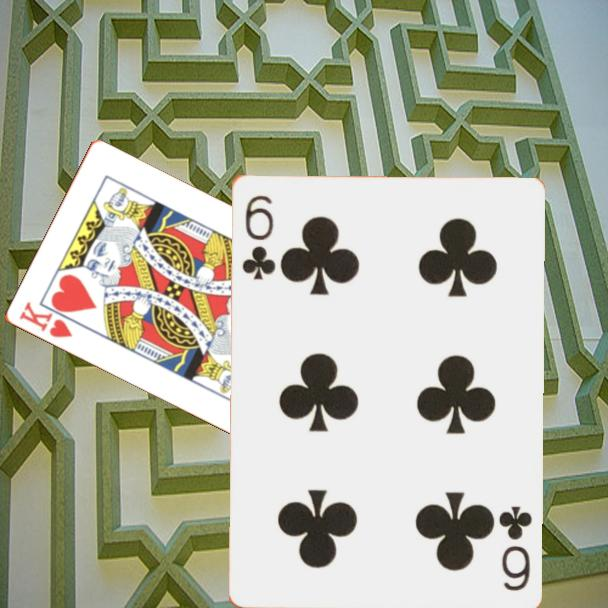c06: (238, 191, 277, 282), (495, 502, 534, 593)
h13: (15, 298, 75, 341)
